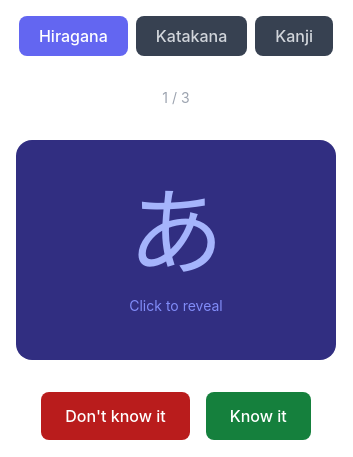
Scenario: FlashCardPage › switching_mode_to_katakana_uses_katakanaService
This screenshot has width=353, height=457.
Expected: the text "1 / 3" is shown, [162,88,190,108]
// Advance one card
Step 1. Click the button "Know it" → [258, 416], box [206,392,311,440]
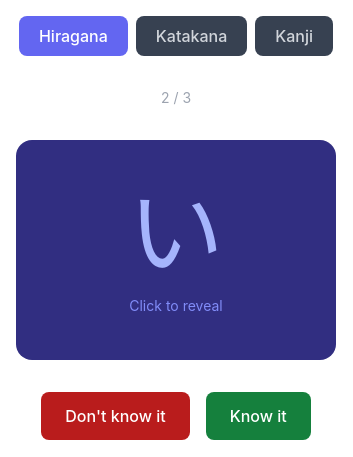
Result: the text "2 / 3" is shown at [161,88,191,108]
Step 2. Click the button "Katakana" → [192, 36], box [136,16,247,56]
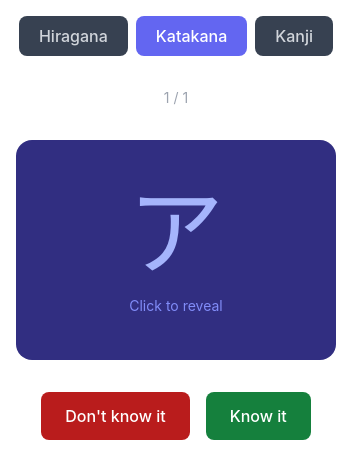
Result: the text "1 / 1" is shown at [164,88,188,108]
